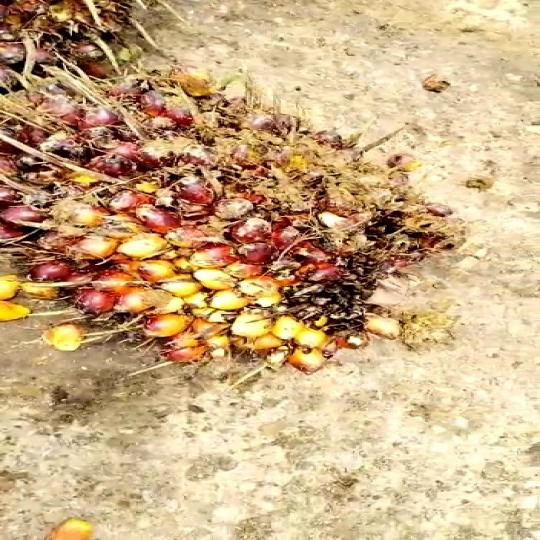masak: (0, 70, 464, 381)
